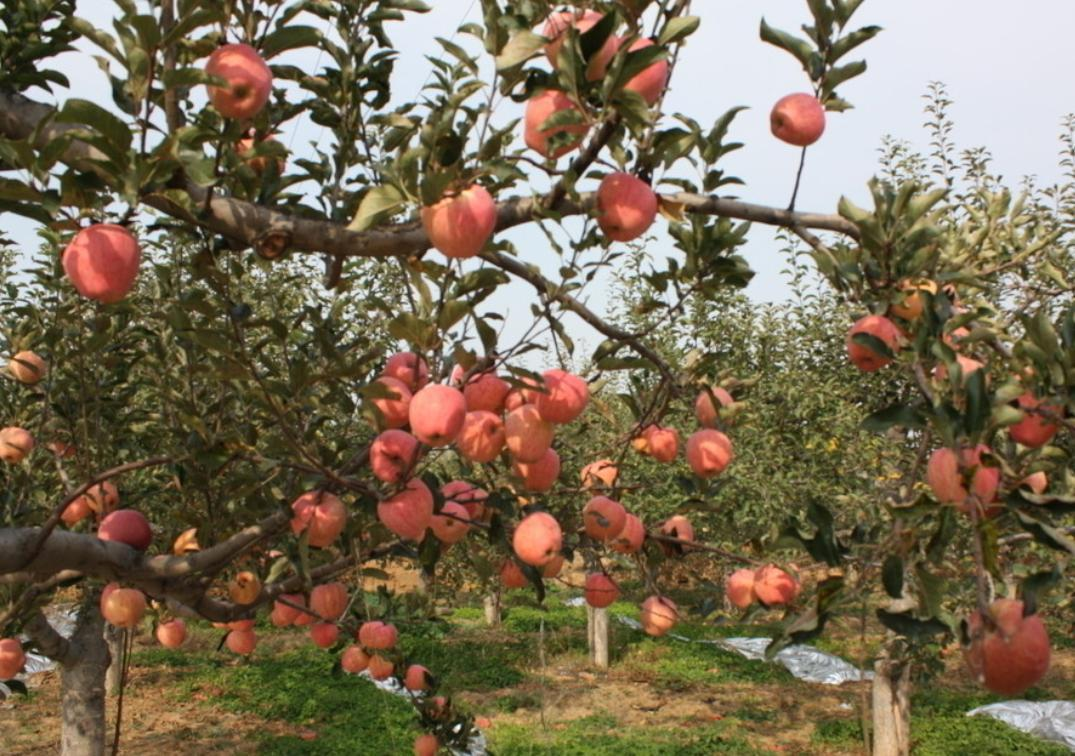apple: (960, 599, 1054, 696), (60, 223, 142, 304), (199, 44, 273, 120), (423, 184, 497, 257), (523, 90, 588, 158), (596, 170, 657, 240), (530, 364, 589, 427), (409, 381, 465, 447), (288, 486, 347, 548), (845, 314, 909, 370), (371, 478, 431, 535), (509, 508, 564, 567), (770, 91, 826, 146), (457, 408, 505, 465), (97, 509, 154, 550), (687, 428, 734, 476), (429, 497, 473, 544)
